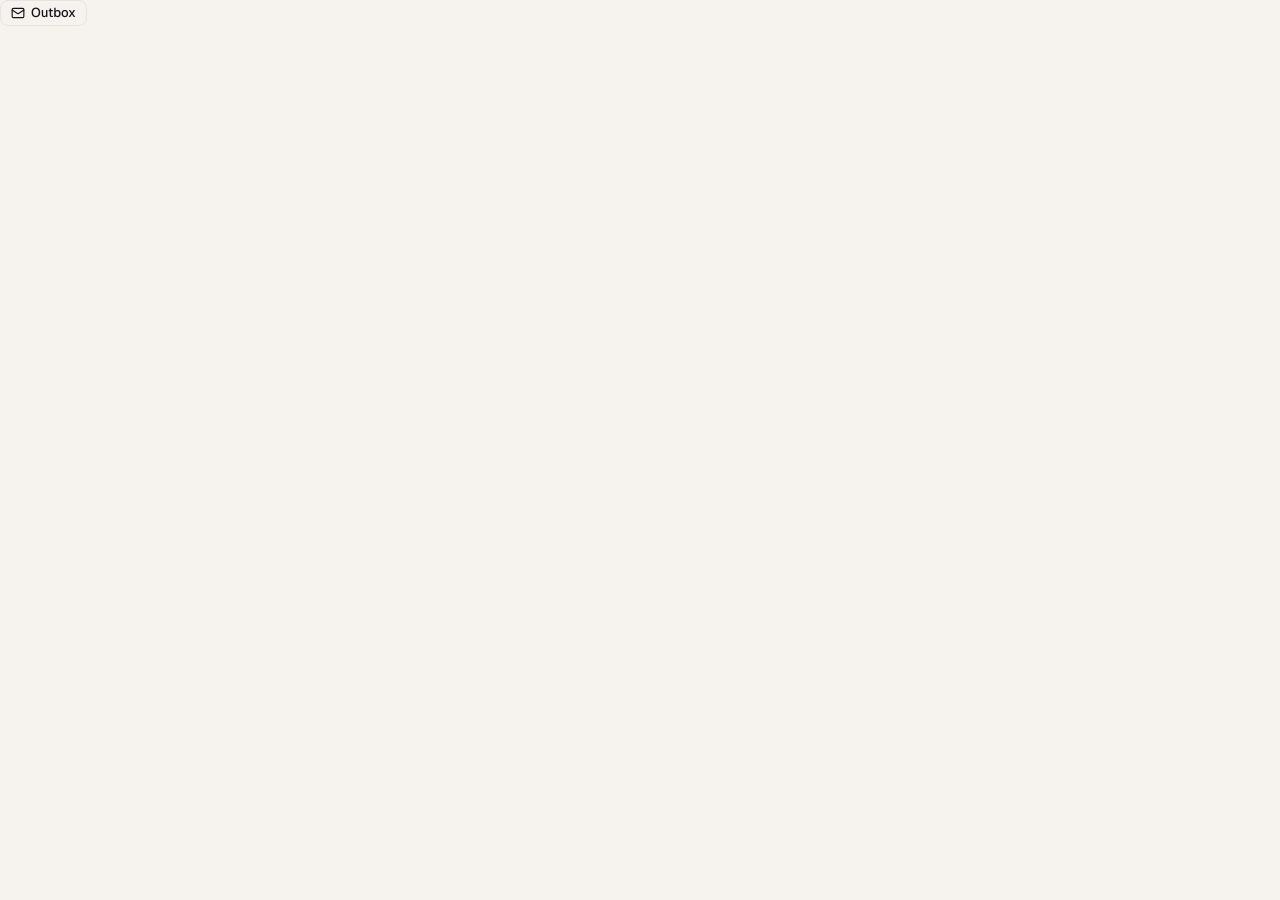
Scenario: DemoOutbox › lists captured sends after opening the dialog
The image size is (1280, 900).
What coordinates should you click on to do the following:
click the button "Outbox"
I would click on:
 (43, 13)
Its box is x1=0 y1=0 x2=87 y2=26.
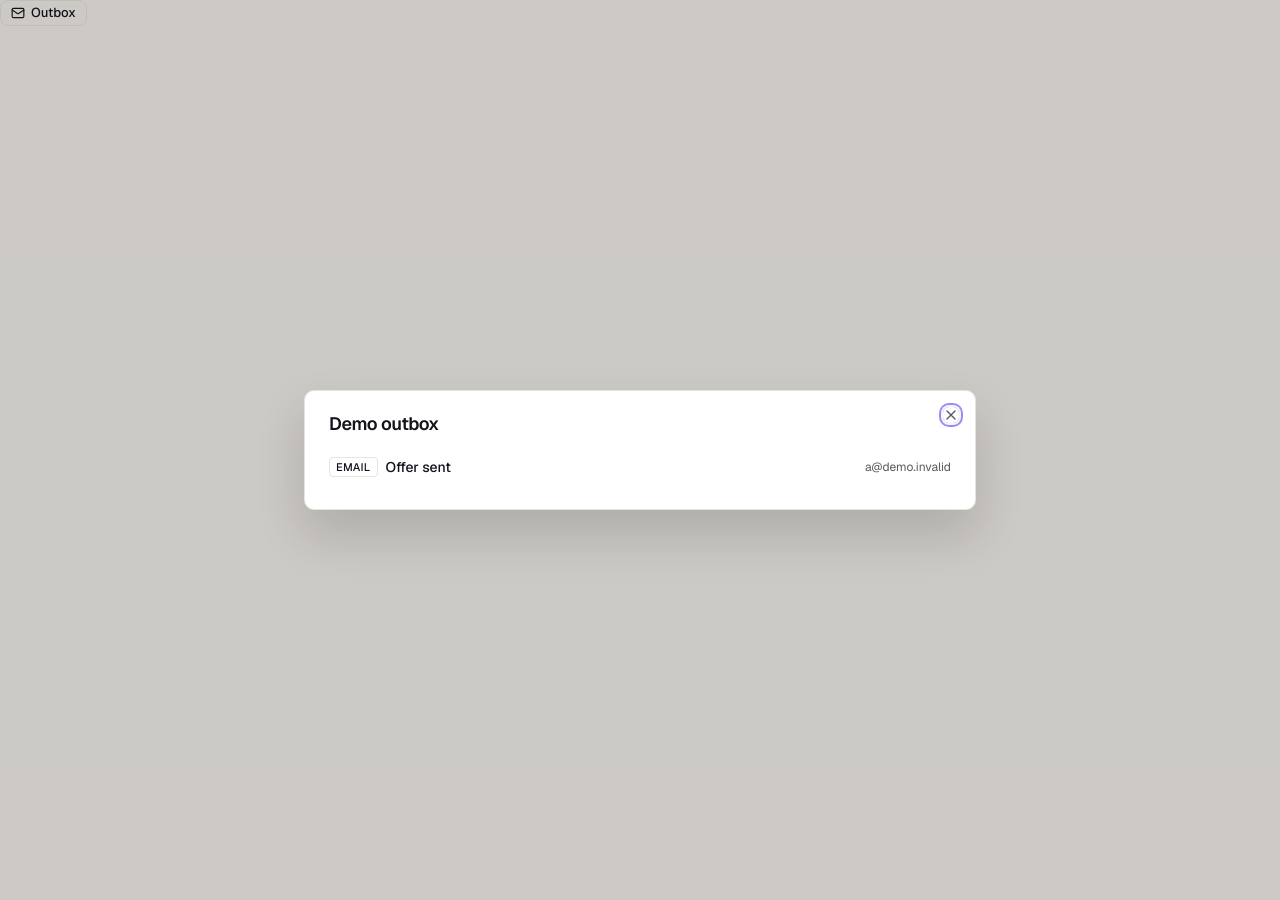
Check: the text "Offer sent" is shown, box x1=386 y1=457 x2=451 y2=477
